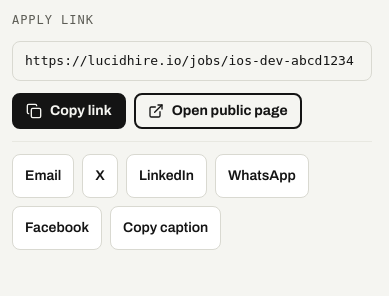
Test case: SharePanel › shares by email, X, LinkedIn, WhatsApp and Facebook, or copies a caption
This screenshot has width=389, height=296.
Step 1. Click the button "Copy caption" → (166, 228), box 110,206 -> 221,250
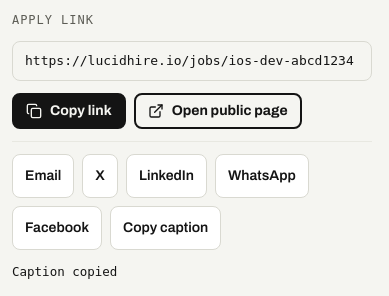
Now the message reads "Caption copied", box 12,264 -> 117,279
